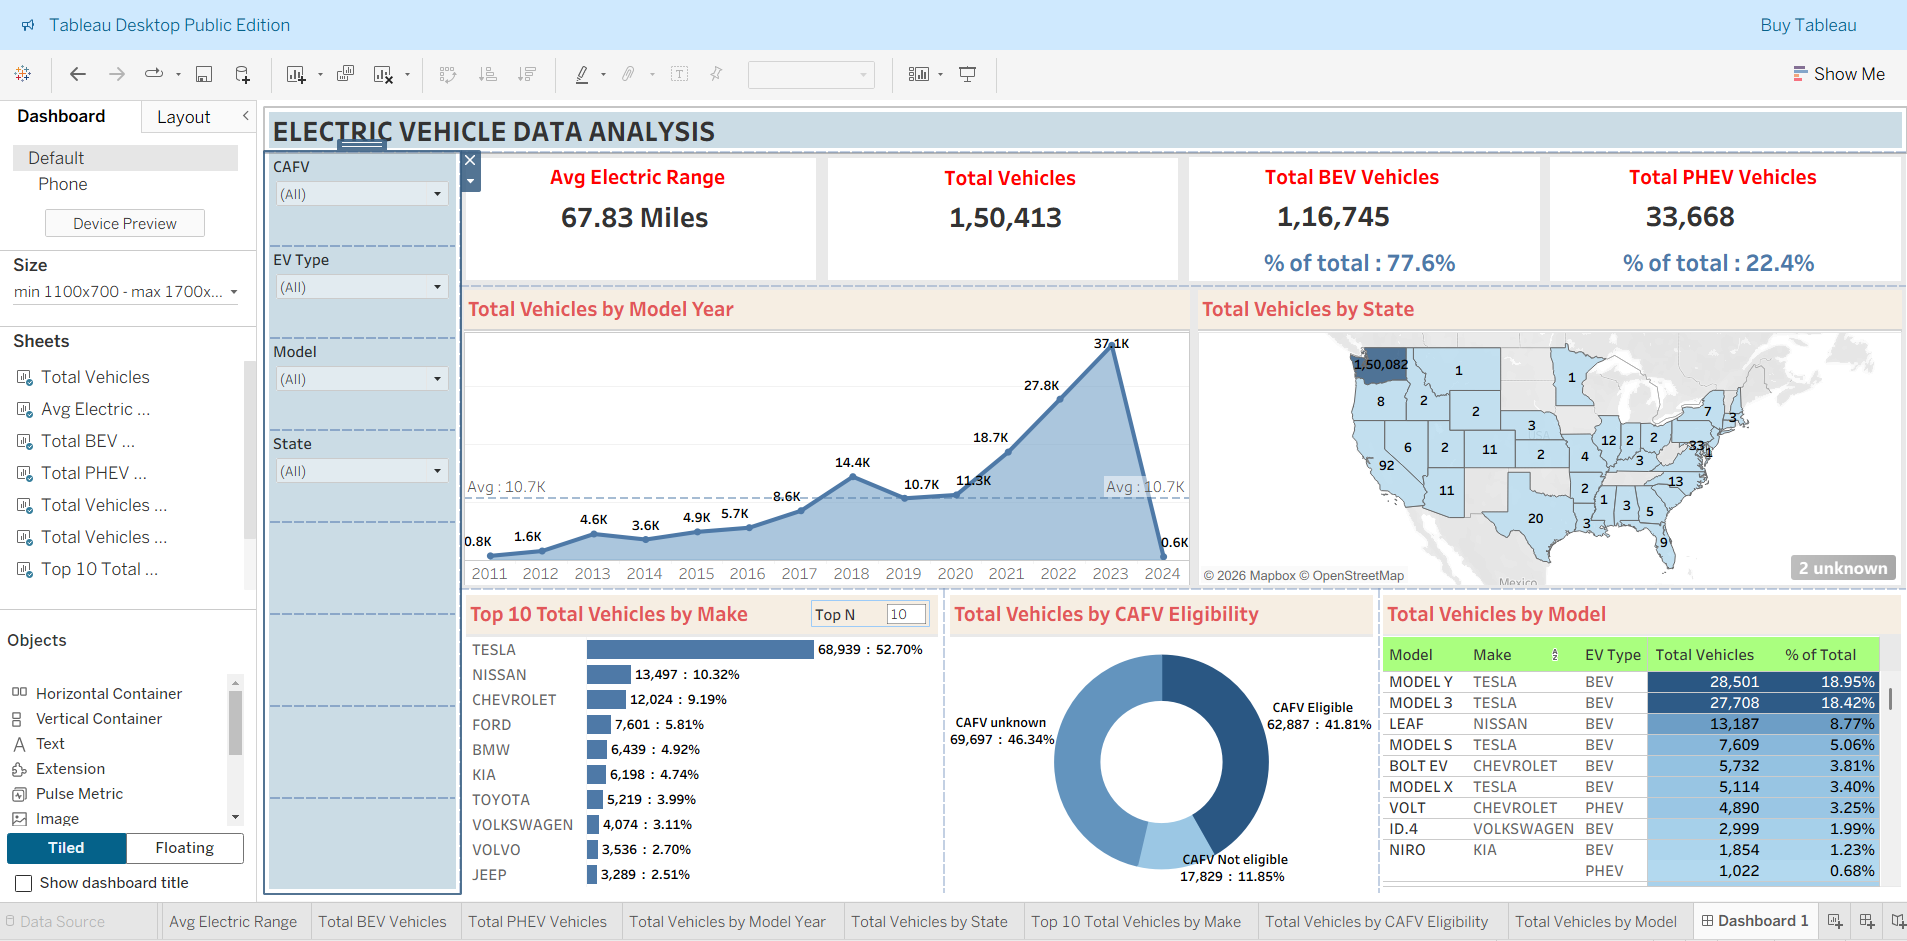

The dashboard page shown, as its layout file describes it:
{"tool":"tableau","page":{"name":"Dashboard 1","canvas":[1000,1000],"units":"permille","ordinal":0},"visuals":[{"type":"title","box":[4.8,10,990.3,54.9]},{"type":"filter","title":"Total Vehicles by Model Year","param":"[federated.13es2vz0kql8q51fwqbu91rksziz].[none:Clean Alternative Fuel Vehicle (C","box":[7.2,64.9,112.9,116.1]},{"type":"worksheet","title":"Avg Electric Range","mark":"Automatic","box":[122.5,64.9,218.5,167.3]},{"type":"worksheet","title":"Total Vehicles","mark":"Automatic","box":[341,64.9,218.5,167.3]},{"type":"worksheet","title":"Total BEV Vehicles","mark":"Automatic","box":[559.4,64.9,217.9,167.3]},{"type":"worksheet","title":"Total PHEV Vehicles","mark":"Automatic","box":[777.3,64.9,217.9,167.3]},{"type":"filter","title":"Total Vehicles by Model Year","param":"[federated.13es2vz0kql8q51fwqbu91rksziz].[none:Electric Vehicle Type:nk]","box":[7.2,181,112.9,114.9]},{"type":"worksheet","title":"Total Vehicles by Model Year","mark":"Area","rows":["Calculation_1056375653277753345","Calculation_1056375653277753345"],"cols":["Model Year"],"box":[122.5,231.9,443,379]},{"type":"worksheet","title":"Total Vehicles by State","mark":"Multipolygon","box":[565.5,231.9,429.7,379]},{"type":"filter","title":"Total Vehicles by Model Year","param":"[federated.13es2vz0kql8q51fwqbu91rksziz].[none:Model:nk]","box":[7.2,295.9,112.9,114.9]},{"type":"filter","title":"Total Vehicles by Model Year","param":"[federated.13es2vz0kql8q51fwqbu91rksziz].[none:State:nk]","box":[7.2,410.7,112.9,114.9]},{"type":"blank","box":[7.2,525.6,112.9,114.9]},{"type":"worksheet","title":"Top 10 Total Vehicles by Make","mark":"Automatic","rows":["Make"],"cols":["Calculation_1056375653277753345"],"box":[122.5,611,292.1,379.1]},{"type":"worksheet","title":"Total Vehicles by CAFV Eligibility","mark":"Pie","rows":["Calculation_1056375653330628618","Calculation_1056375653330915340"],"box":[414.6,611,262.5,379.1]},{"type":"worksheet","title":"Total Vehicles by Model","mark":"Square","rows":["Model","Make","Electric Vehicle Type"],"box":[677.1,611,318,379.1]},{"type":"parameter","param":"[Parameters].[Parameter 1]","box":[334.4,624.7,71.9,33.7]},{"type":"blank","box":[7.2,640.5,112.9,114.9]},{"type":"blank","box":[7.2,755.3,112.9,114.9]},{"type":"blank","box":[7.2,870.2,112.9,114.9]}]}

Visuals, with their boxes on the dashboard's canvas, which has no fixed pixel size, in thousandths of its width and height (x1, y1, x2, y2). These are canvas units, not pixel positions in the 1907x941 screenshot, which may show the page scaled, cropped or inside an application window:
title: 5, 10, 995, 65
"Total Vehicles by Model Year" filter: 7, 65, 120, 181
"Avg Electric Range" worksheet: 122, 65, 341, 232
"Total Vehicles" worksheet: 341, 65, 560, 232
"Total BEV Vehicles" worksheet: 559, 65, 777, 232
"Total PHEV Vehicles" worksheet: 777, 65, 995, 232
"Total Vehicles by Model Year" filter: 7, 181, 120, 296
"Total Vehicles by Model Year" worksheet (Area marks): 122, 232, 566, 611
"Total Vehicles by State" worksheet (Multipolygon marks): 566, 232, 995, 611
"Total Vehicles by Model Year" filter: 7, 296, 120, 411
"Total Vehicles by Model Year" filter: 7, 411, 120, 526
blank: 7, 526, 120, 640
"Top 10 Total Vehicles by Make" worksheet: 122, 611, 415, 990
"Total Vehicles by CAFV Eligibility" worksheet (Pie marks): 415, 611, 677, 990
"Total Vehicles by Model" worksheet (Square marks): 677, 611, 995, 990
parameter: 334, 625, 406, 658
blank: 7, 640, 120, 755
blank: 7, 755, 120, 870
blank: 7, 870, 120, 985
